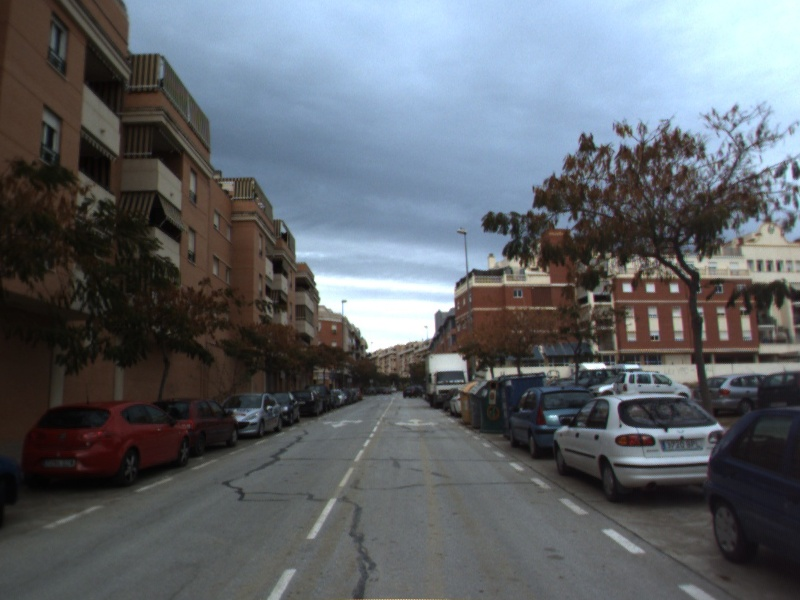STRAIGHT_LEFT_RIGHT: (393, 417, 441, 428)
